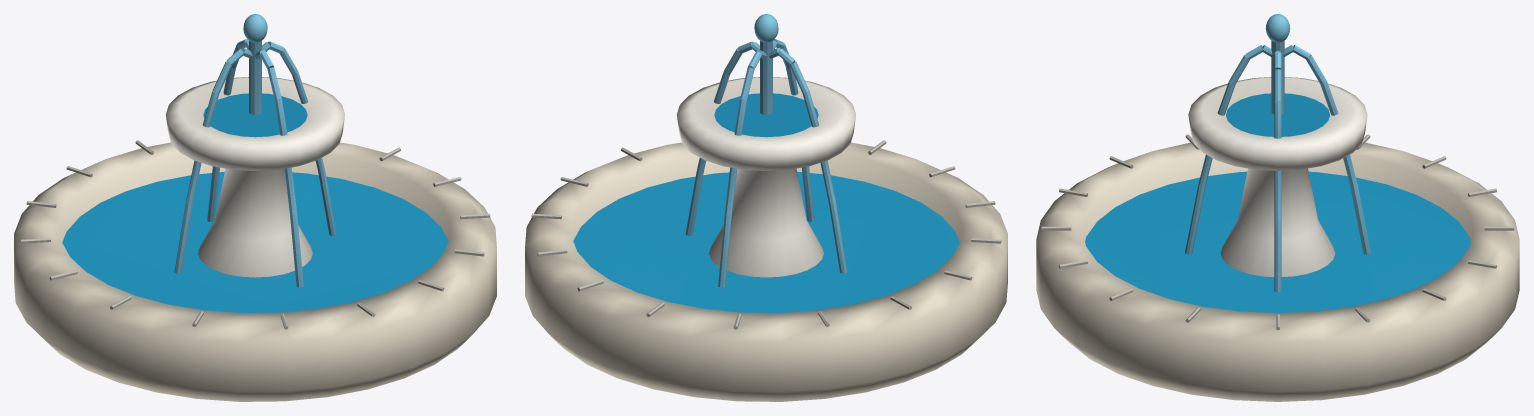
The model's file is fountain.glb.
The picture shows the model from 3 angles, left to right: view 1: azimuth 30°, elevation 25°; view 2: azimuth 150°, elevation 25°; view 3: azimuth 270°, elevation 25°; orthographic projection.
Visible parts, largest first — view 1: stone basin, pool, fountain stem, water jet, basin segment seam; view 2: stone basin, pool, fountain stem, water jet, basin segment seam; view 3: stone basin, pool, fountain stem, water jet, basin segment seam.
Boxes of the visible parts, left/top/right/bottom form: stone basin: left=14, top=142, right=496, bottom=401; pool: left=62, top=93, right=448, bottom=312; fountain stem: left=165, top=77, right=345, bottom=277; water jet: left=174, top=14, right=336, bottom=287; basin segment seam: left=20, top=140, right=490, bottom=329; stone basin: left=525, top=142, right=1007, bottom=401; pool: left=573, top=93, right=959, bottom=312; fountain stem: left=676, top=77, right=856, bottom=277; water jet: left=685, top=14, right=847, bottom=287; basin segment seam: left=531, top=140, right=1001, bottom=329; stone basin: left=1036, top=142, right=1519, bottom=401; pool: left=1085, top=93, right=1470, bottom=312; fountain stem: left=1188, top=77, right=1367, bottom=276; water jet: left=1185, top=14, right=1370, bottom=292; basin segment seam: left=1041, top=134, right=1514, bottom=330.
Size of the model in its own units: 1.78 by 1.19 by 1.78.
